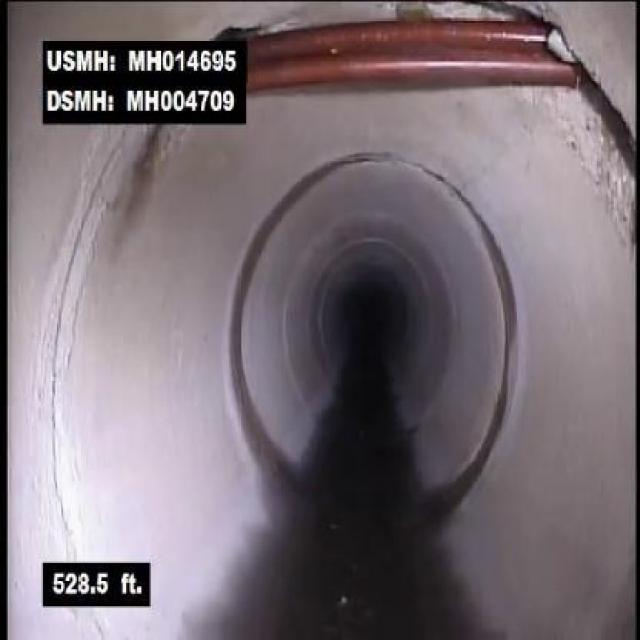Utility intrusion: (251, 0, 594, 138)
